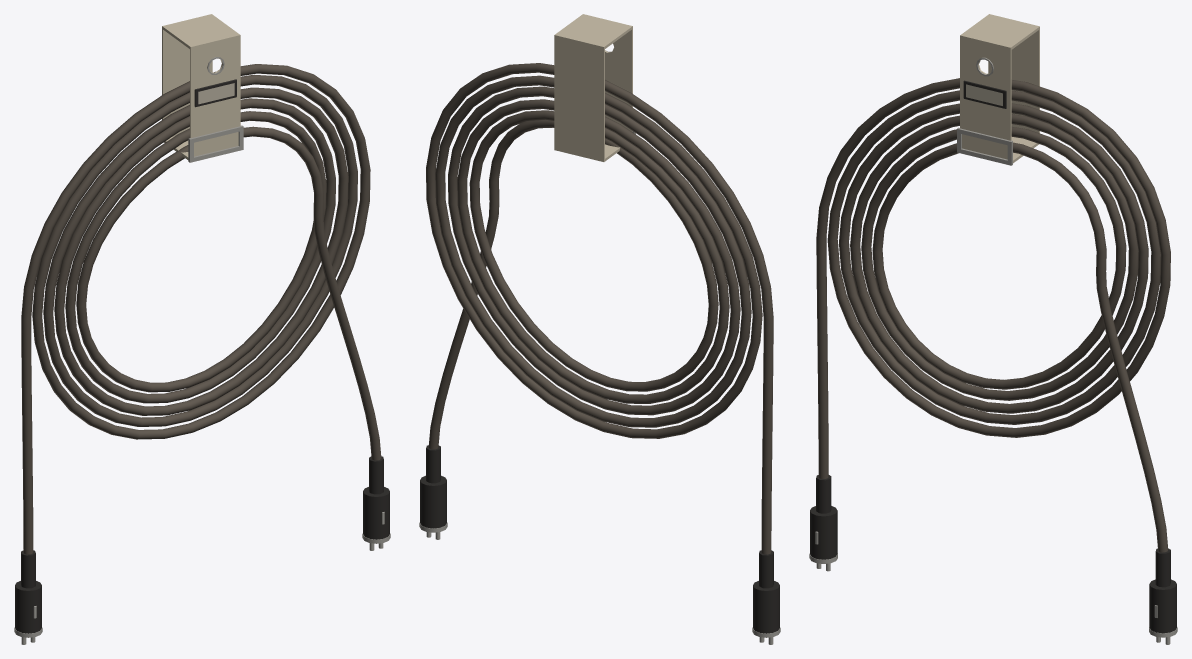
The model's file is cable-coil-large-cloth-1ce809bc7258.glb.
3 renders of one model, left to right at view 1: azimuth 30°, elevation 25°; view 2: azimuth 150°, elevation 25°; view 3: azimuth 330°, elevation 25°, orthographic.
Visible parts, largest first — view 1: fabric, cloth-cream, plastic-dark, brushed; view 2: fabric, cloth-cream, plastic-dark; view 3: fabric, cloth-cream, plastic-dark, brushed.
Part boxes in pixels (<box>): fabric: <box>21,64,381,554</box>; cloth-cream: <box>162,14,240,159</box>; plastic-dark: <box>15,79,389,633</box>; brushed: <box>14,57,390,644</box>; fabric: <box>426,63,773,554</box>; cloth-cream: <box>554,14,632,161</box>; plastic-dark: <box>420,445,779,633</box>; fabric: <box>816,78,1170,552</box>; cloth-cream: <box>960,14,1039,163</box>; plastic-dark: <box>810,80,1176,633</box>; brushed: <box>809,57,1177,644</box>.
Bounding box in the file's own units: 0.2786 × 0.416 × 0.0395.
